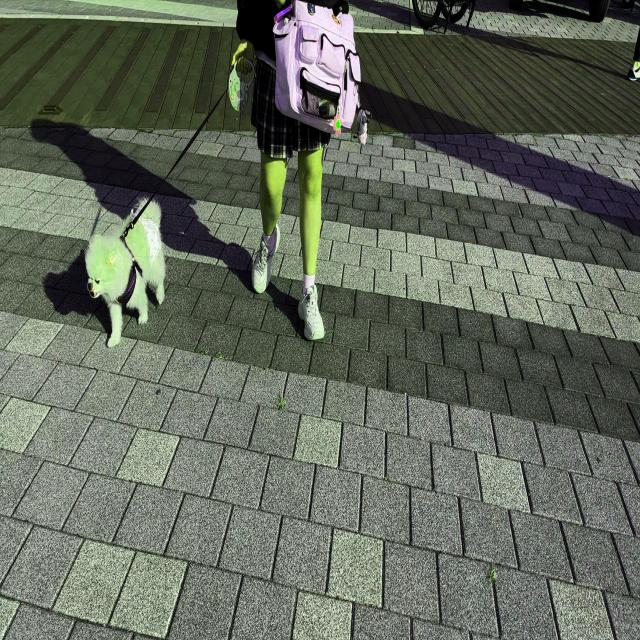Leashed_Dog: (84, 36, 281, 349)
